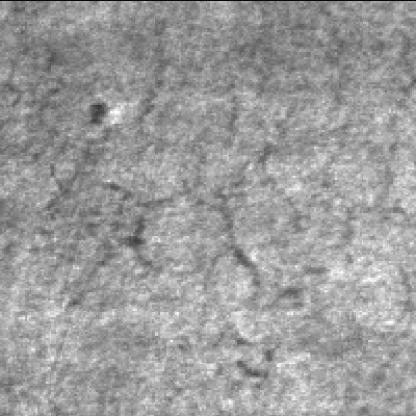crazing: (198, 89, 370, 391), (21, 48, 175, 314)
